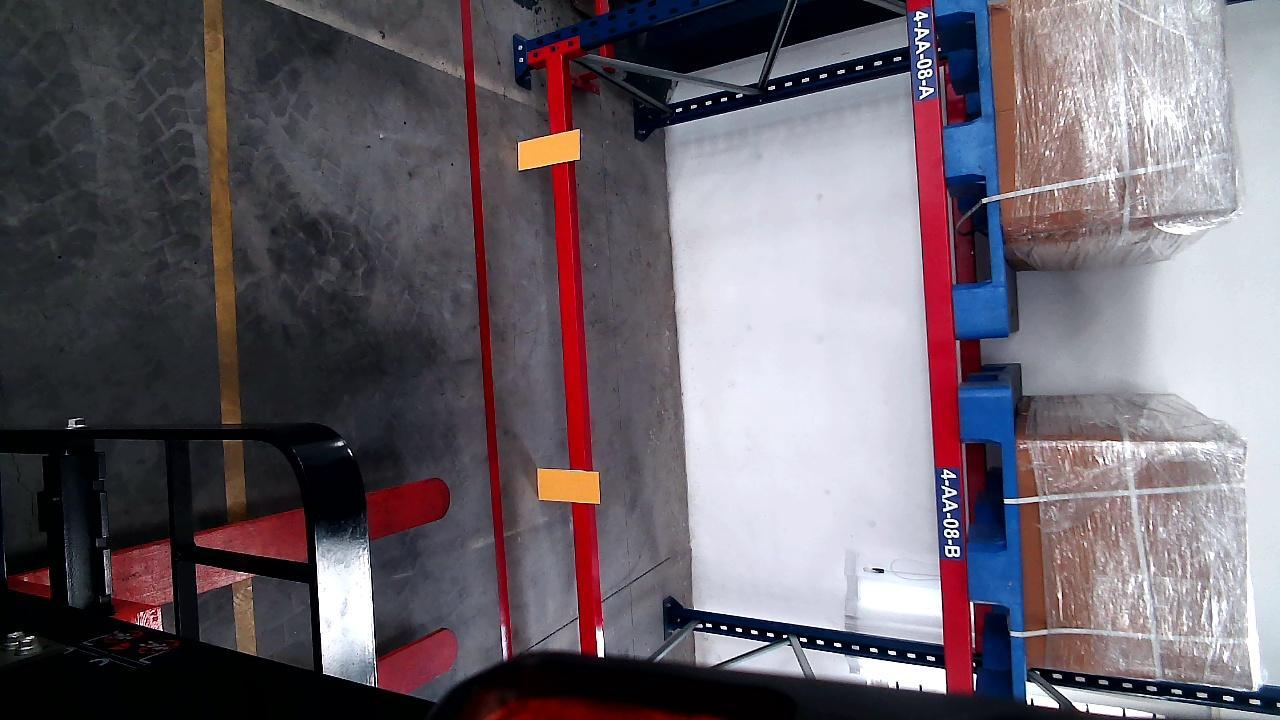red_line: (461, 1, 512, 659)
